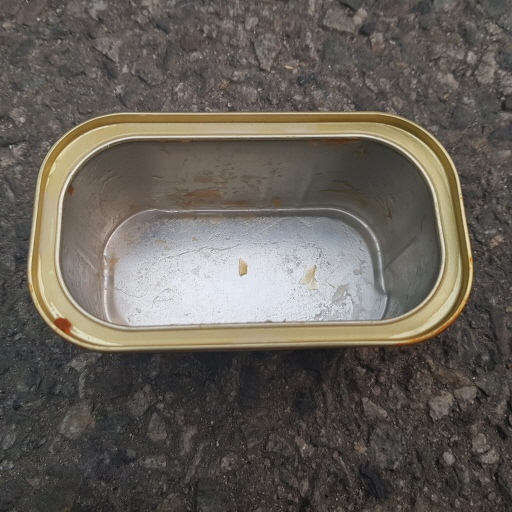Metal_2: (29, 111, 477, 355)
